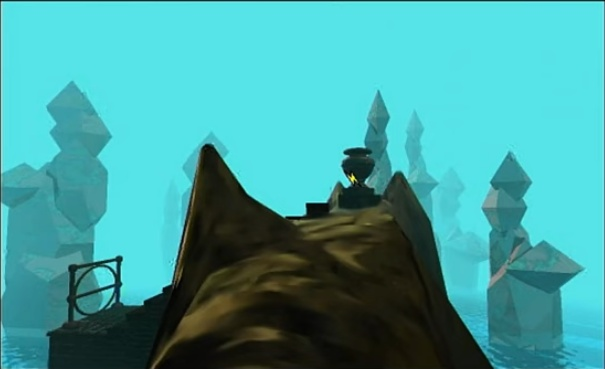Keep: (339, 171, 360, 189)
